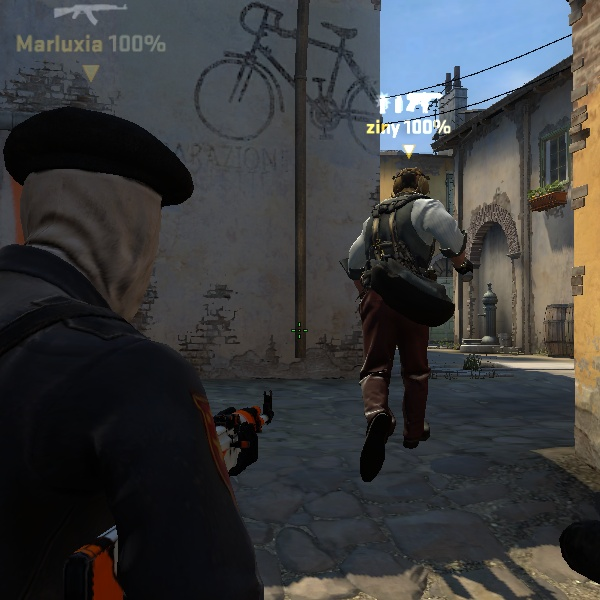ct_body: (318, 156, 481, 475)
ct_head: (379, 161, 435, 215)
